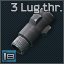MP5 3-lug threaded muzzle protector: (0, 0, 64, 64)
